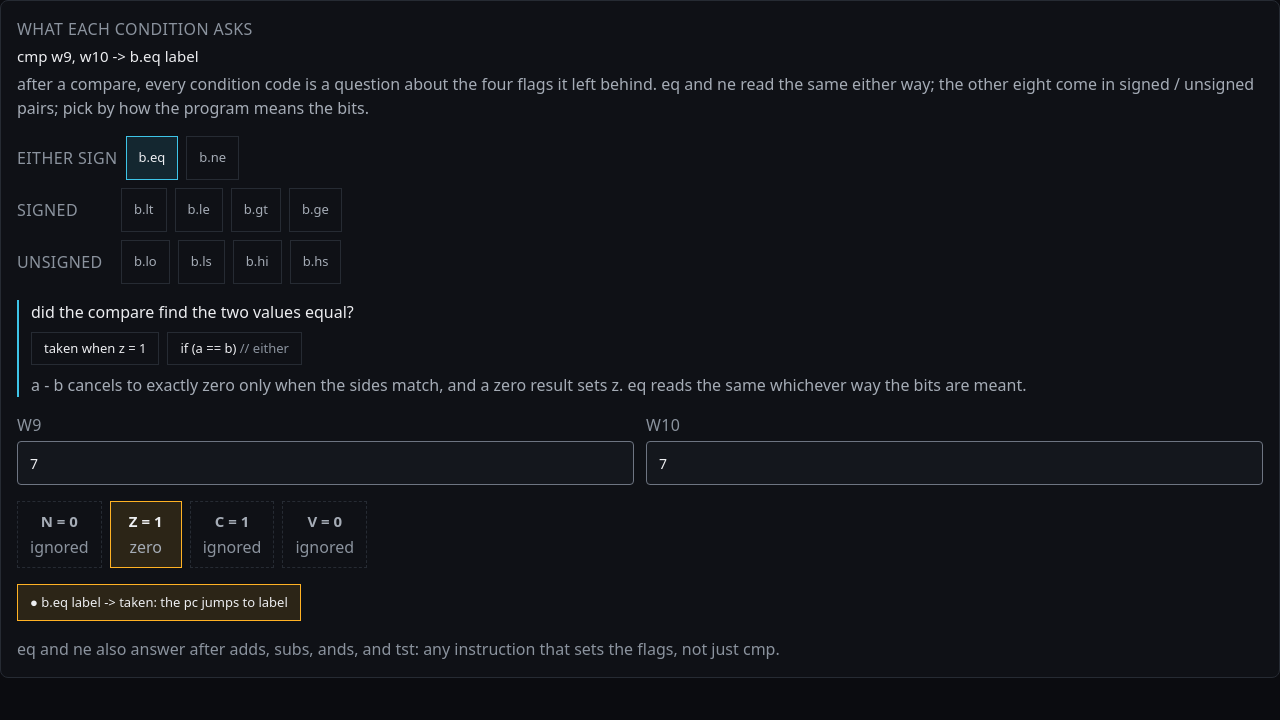
CondCodeExplorer › lo on the same default operands is the teaching point: not taken
Click the button "b.lo" at (145, 262), box [121,240,170,284]
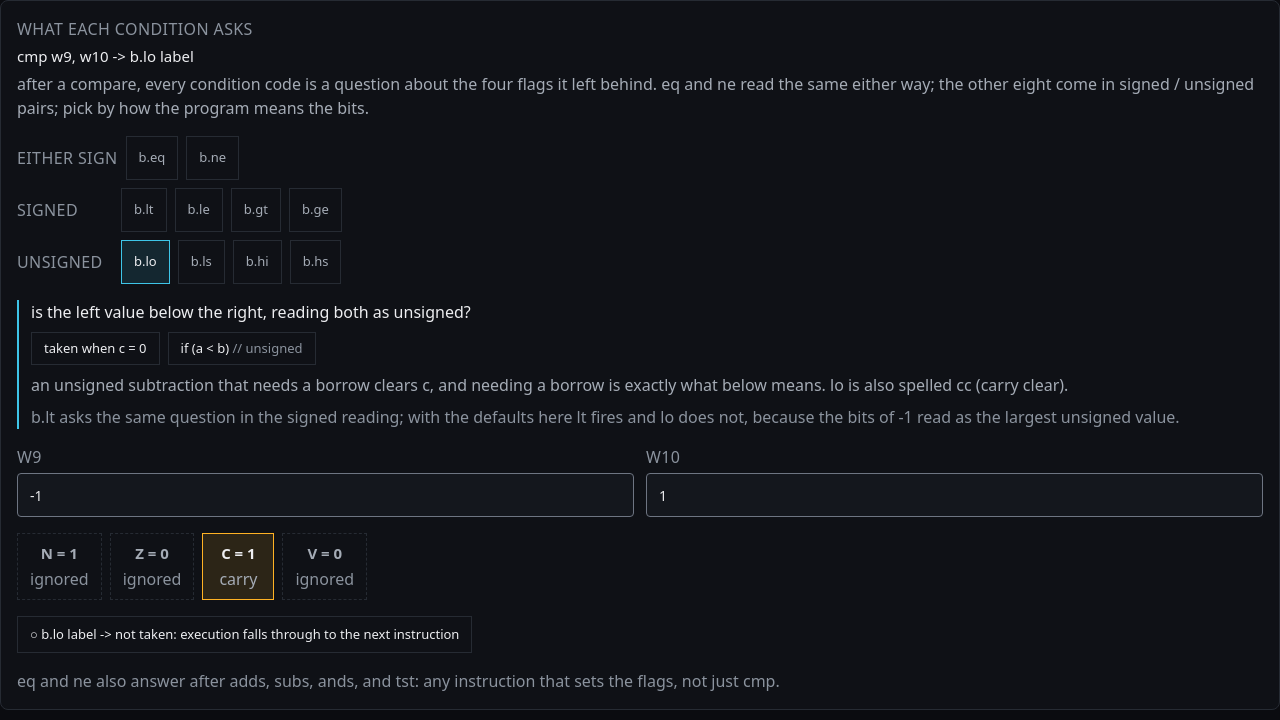
Expected: the element named "b.lo: not taken" is shown, [17,616,472,653]
Expected: the text "falls through" is shown, [115,624,459,642]
